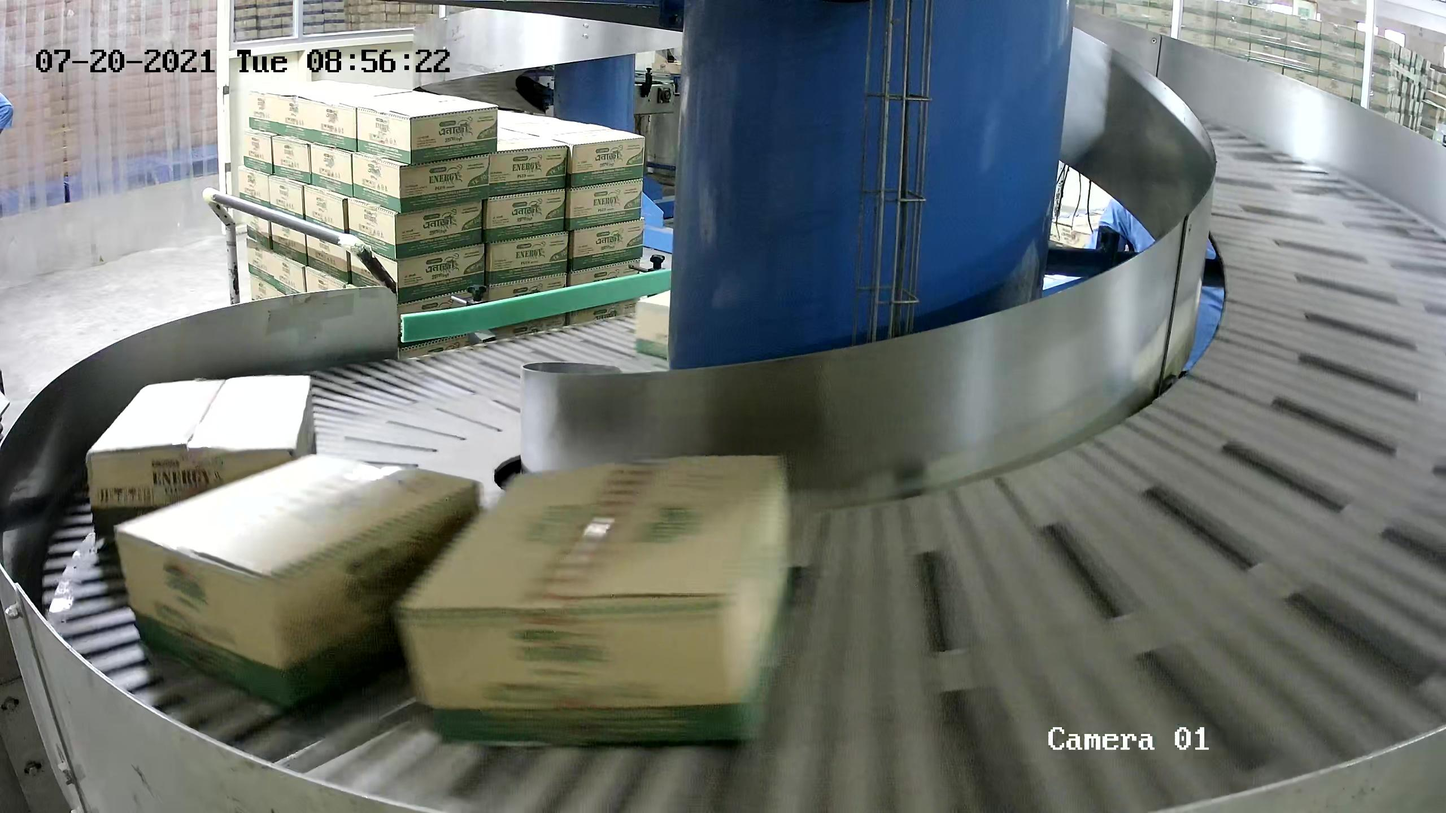Box: (391, 452, 798, 747), (116, 447, 488, 715), (86, 374, 320, 544)
